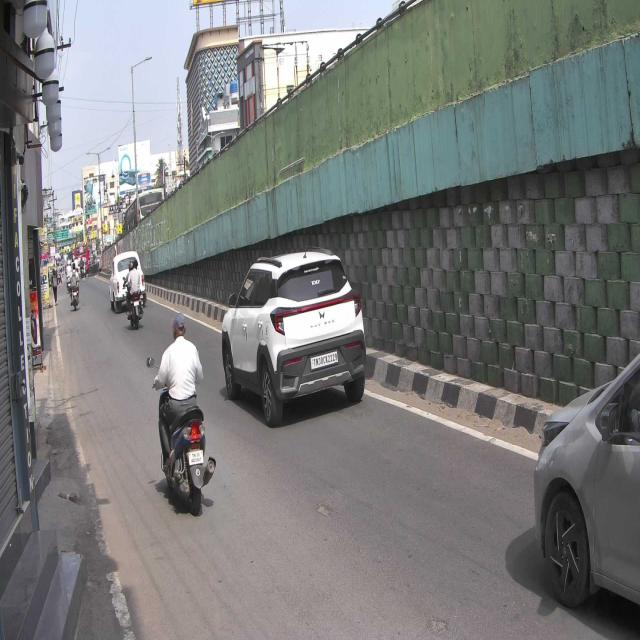single_rider: (152, 313, 218, 514)
